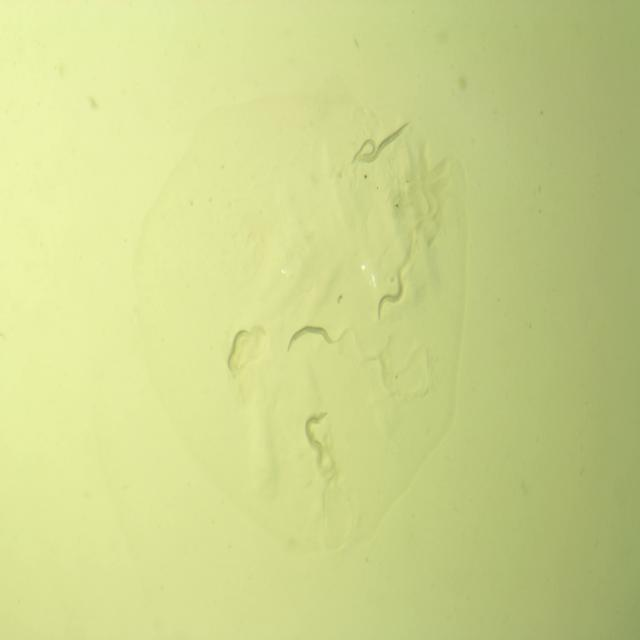worm: (358, 116, 413, 165), (280, 318, 342, 356), (221, 314, 254, 381), (372, 268, 408, 324), (301, 405, 333, 466), (348, 132, 379, 170)
